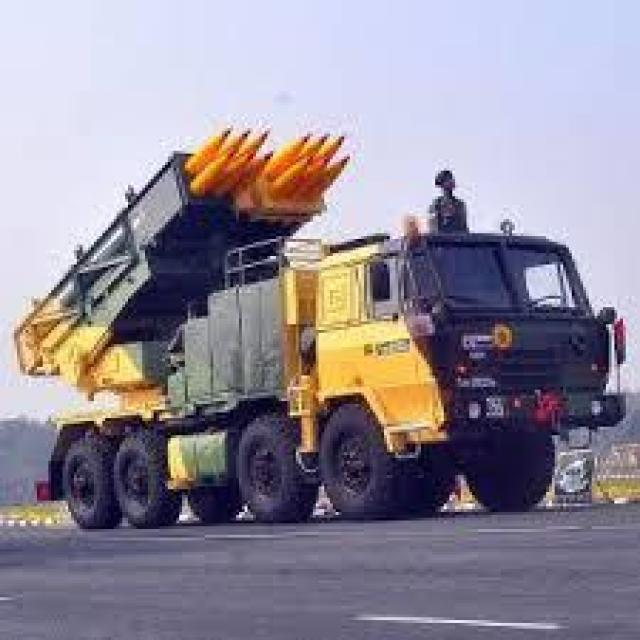MIL_MBT: (3, 102, 566, 538)
